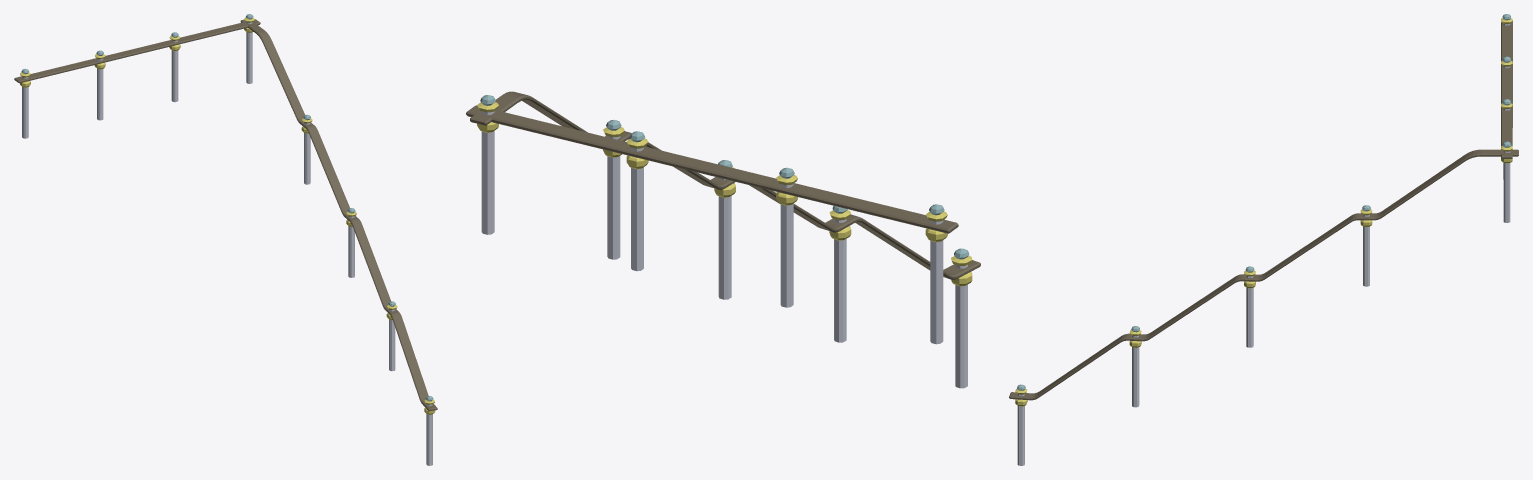
Rendered from mainRoom_railing.fbx.
3 renders of one model, left to right at view 1: azimuth 30°, elevation 25°; view 2: azimuth 150°, elevation 25°; view 3: azimuth 270°, elevation 25°, orthographic. The views are drawn at different scales.
Parts seen in each view (by area): view 1: railing; view 2: railing; view 3: railing.
Boxes of the visible parts, x1,y1,x2,y2 form: railing: [14, 14, 437, 465]; railing: [466, 91, 980, 388]; railing: [1009, 14, 1518, 465].
Bounding box in the file's own units: 81.65 × 93.87 × 128.
